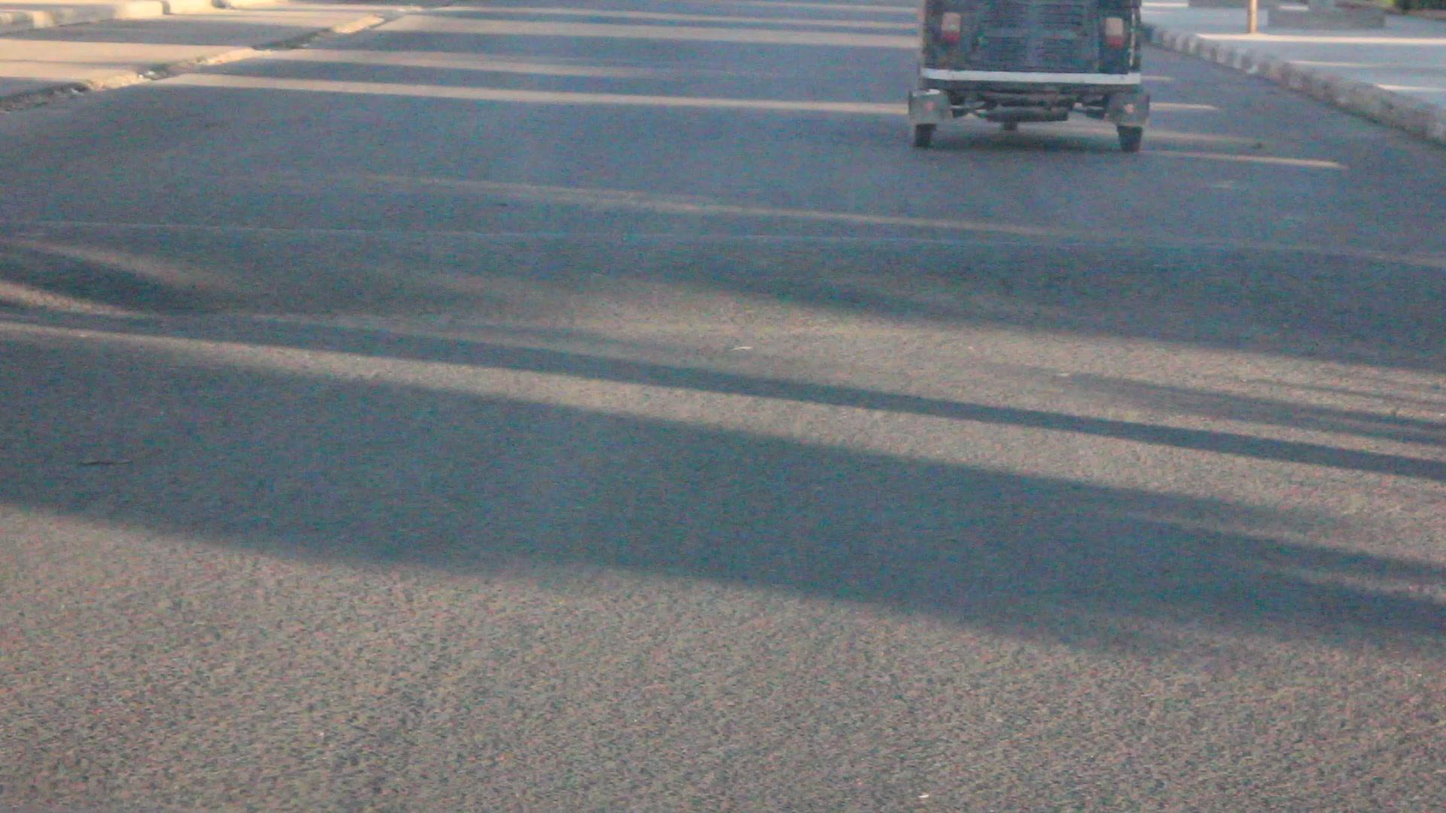Bump: (0, 213, 1446, 365)
